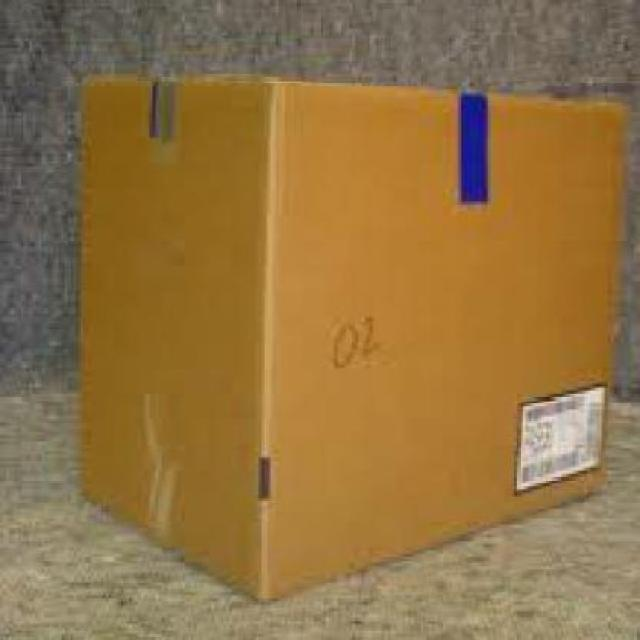box: (47, 51, 638, 612)
